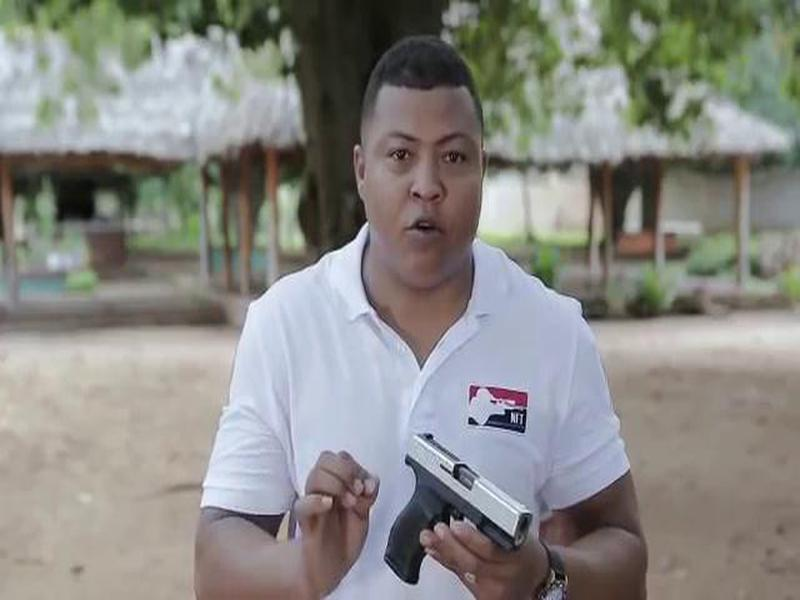Pistola: (396, 423, 546, 596)
